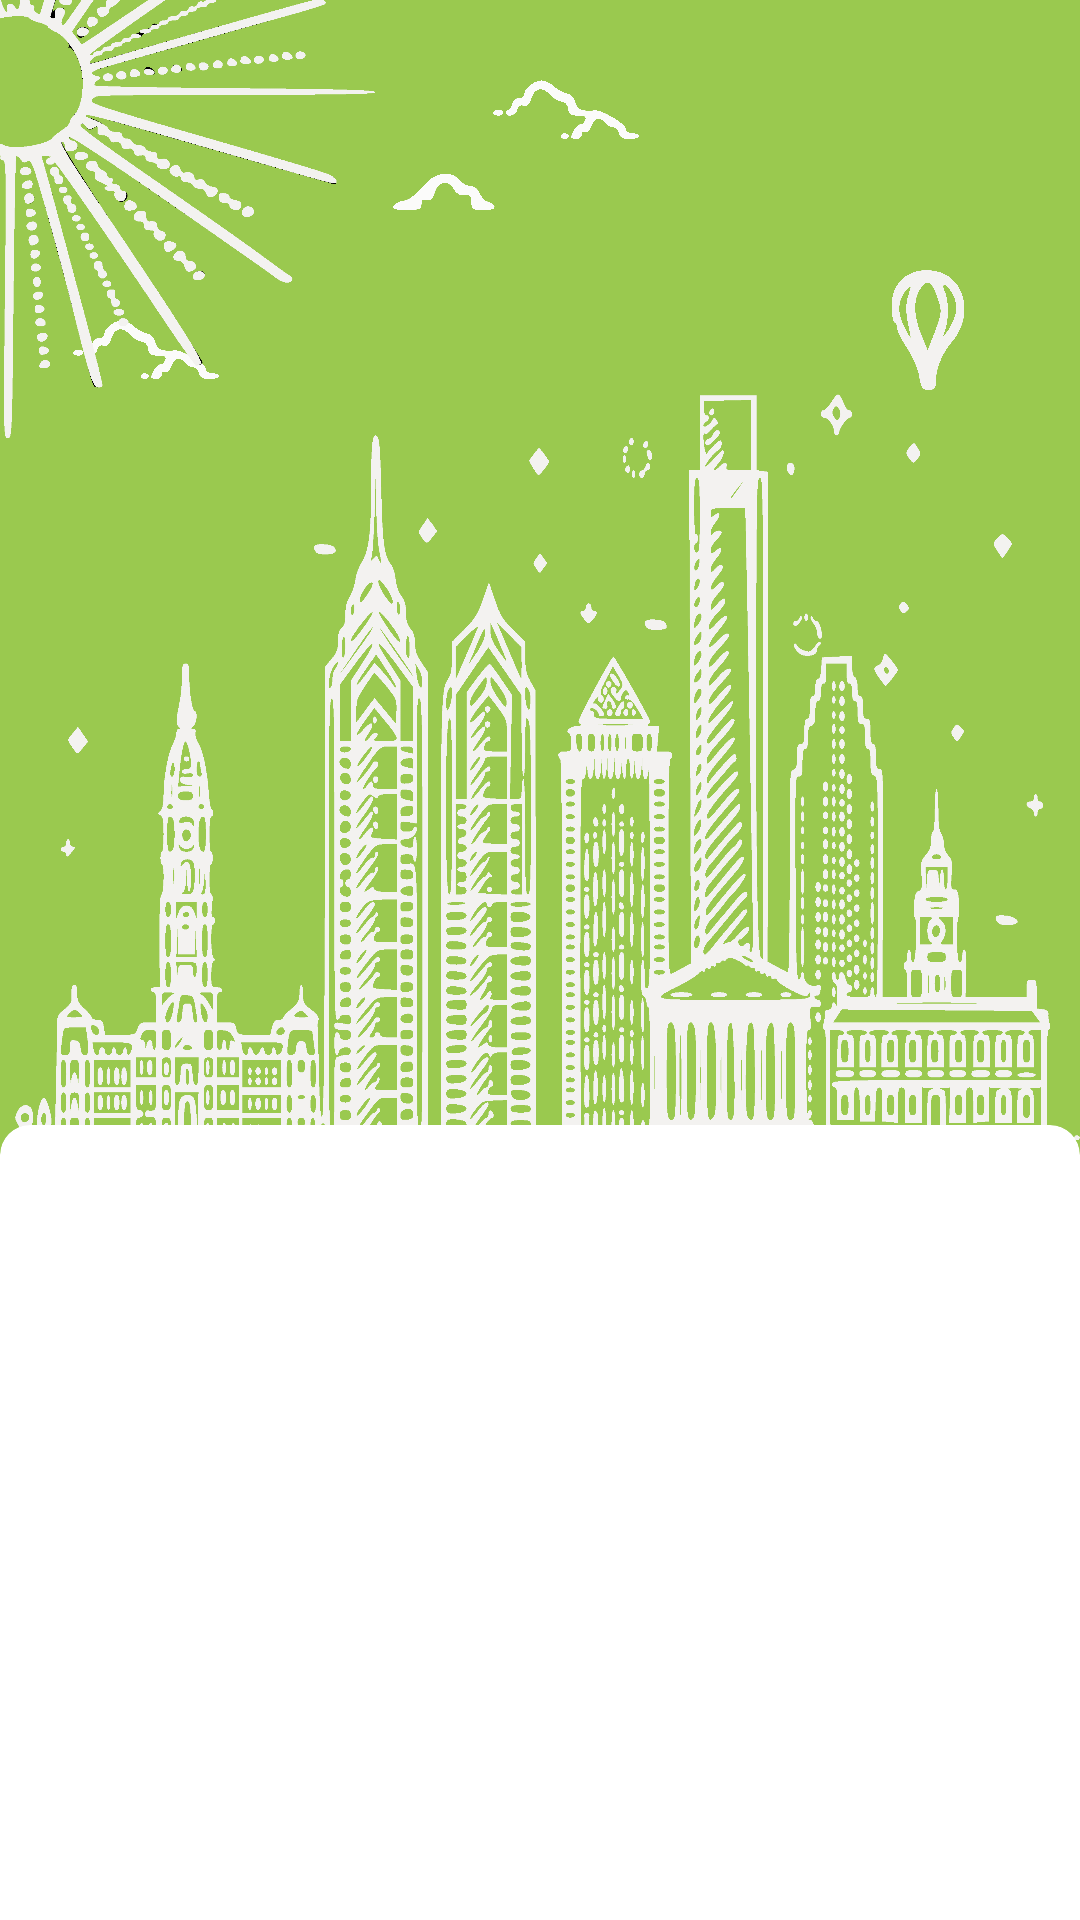

Icon click points for this 1080x1920 phone screenshot, format (x=x, y=y):
balloon: (x=928, y=330)
singlecloud: (x=444, y=192)
